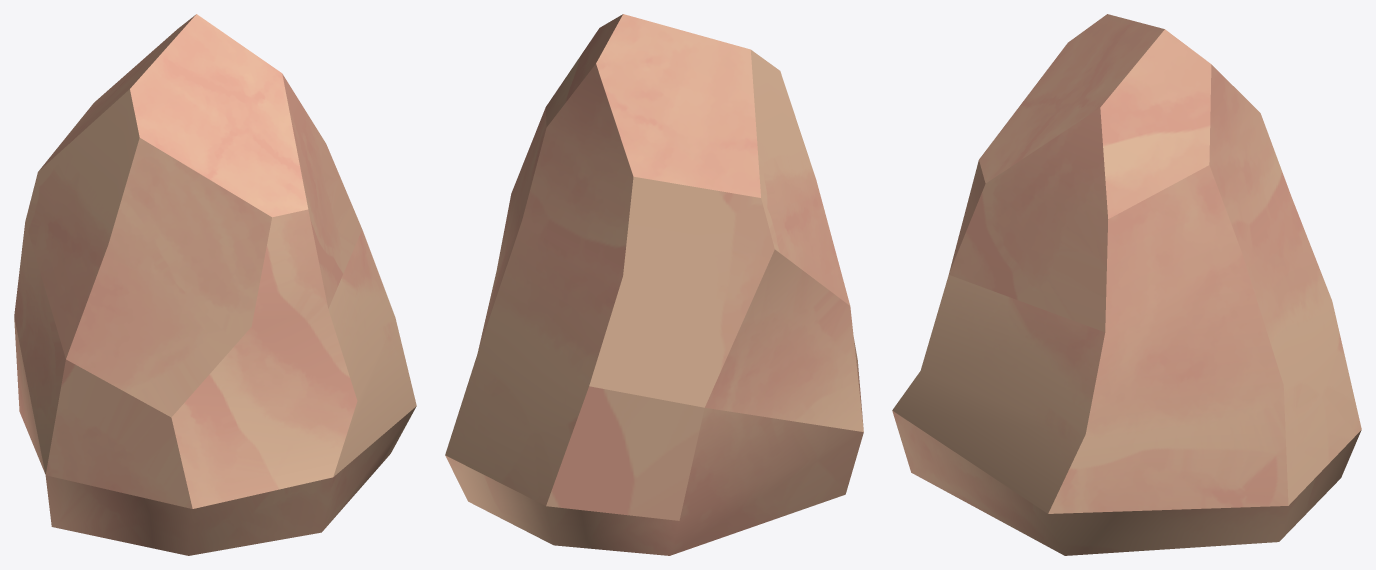
Rendered from ROK0110031.fbx.
3 renders of one model, left to right at view 1: azimuth 30°, elevation 25°; view 2: azimuth 150°, elevation 25°; view 3: azimuth 270°, elevation 25°, orthographic. The views are drawn at different scales.
Parts seen in each view (by area): view 1: smROK0110031; view 2: smROK0110031; view 3: smROK0110031.
Boxes of the visible parts, <box> form: smROK0110031: <box>14,14,416,555</box>; smROK0110031: <box>445,14,863,555</box>; smROK0110031: <box>892,14,1361,555</box>.
Bounding box in the file's own units: 76.1 × 93.78 × 84.61.
Materials: 1 (1 with a texture image).
